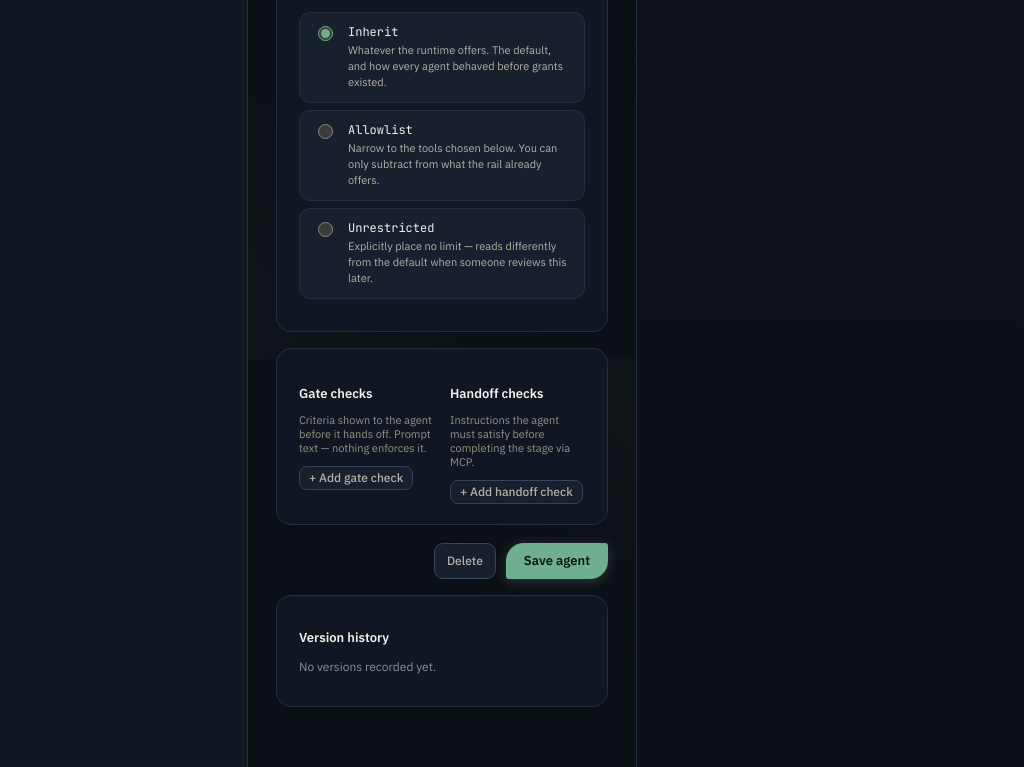
it: the confirm's Delete action while its request is away › is disabled and says Deleting…
This screenshot has width=1024, height=767.
(page scrolled)
Click the button "Delete": (465, 561) [434, 543, 496, 579]
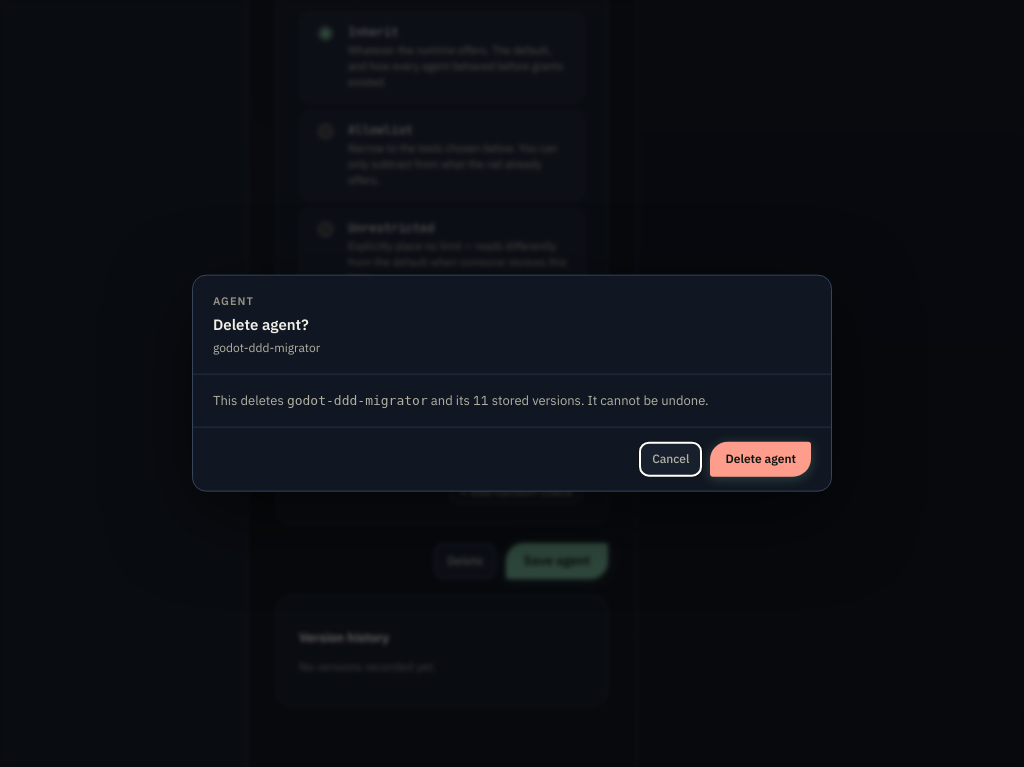
Click the button "Delete agent": (761, 459) [710, 442, 811, 476]
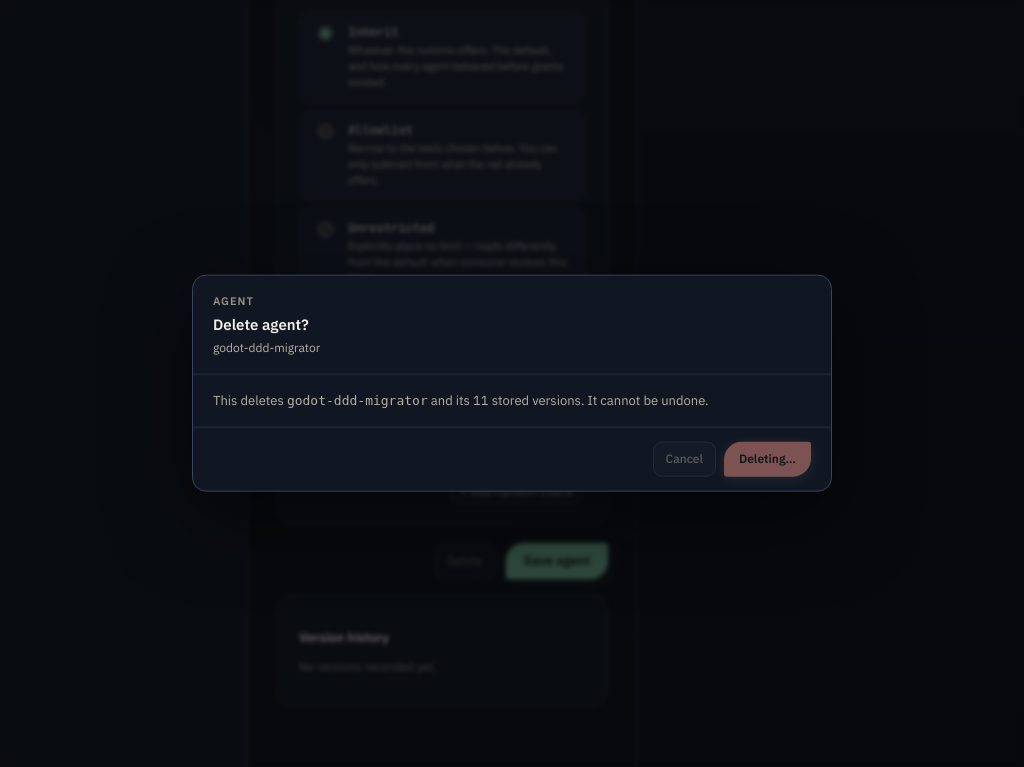
Expected: the button "Deleting…" is disabled, [724, 442, 811, 476]
